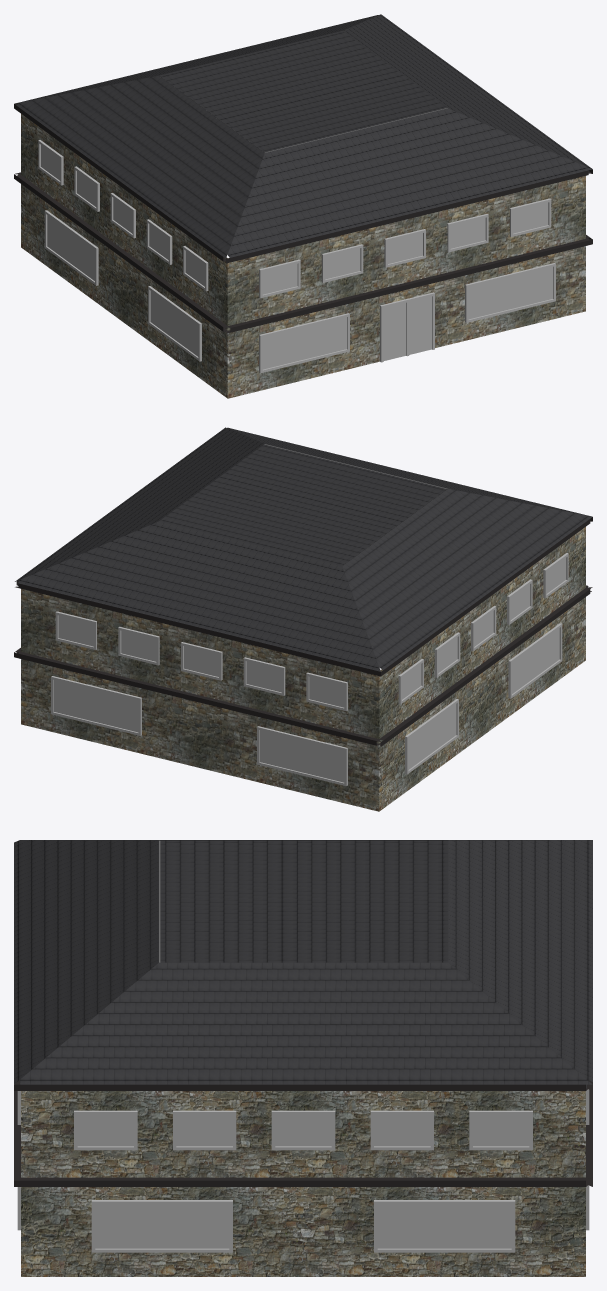
The model's file is hotel.fbx.
3 renders of one model, top to bottom at view 1: azimuth 30°, elevation 25°; view 2: azimuth 150°, elevation 25°; view 3: azimuth 270°, elevation 25°, orthographic. The views are drawn at different scales.
Visible parts, largest first — view 1: Hotel_toit_Cube_001, Hotel_Cube, Hotel_fenetre_Cube_002; view 2: Hotel_toit_Cube_001, Hotel_Cube, Hotel_fenetre_Cube_002; view 3: Hotel_toit_Cube_001, Hotel_Cube, Hotel_fenetre_Cube_002.
Part boxes in pixels (x1,y1,x2,y2): Hotel_toit_Cube_001: (14,14,592,333); Hotel_Cube: (21,114,585,398); Hotel_fenetre_Cube_002: (38,140,555,373); Hotel_toit_Cube_001: (14,427,592,746); Hotel_Cube: (21,527,585,811); Hotel_fenetre_Cube_002: (51,553,568,786); Hotel_toit_Cube_001: (14,840,592,1186); Hotel_Cube: (21,1091,585,1276); Hotel_fenetre_Cube_002: (17,1089,589,1252).
Size of the model in its own units: 82 by 40 by 82.
Materials: 3 (2 with a texture image).
